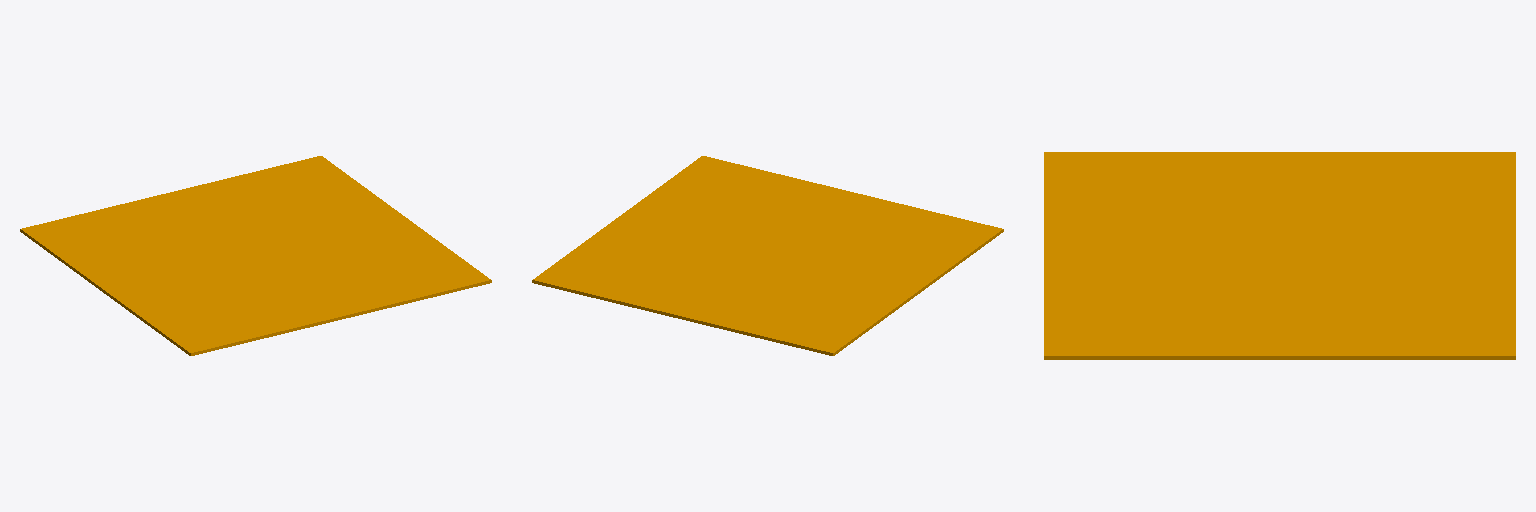
robot.urdf — basic_tray:
<robot
  name="basic_tray">
  <link name="basic_tray">
    <inertial>
      <origin xyz="0.0 0.0 0.0" rpy="0 0 0"/>
      <mass value="2.0"/>
      <inertia ixx="1" ixy="0.0" ixz="0.0" iyy="1" iyz="0.0" izz="1" />
    </inertial>

    <visual>
      <geometry>
        <mesh filename="../meshes/basic_tray.obj" scale="1 1 1" />
      </geometry>
     </visual>

    <collision>
      <geometry>
        <mesh filename="../meshes/basic_tray.obj" scale="1 1 1" />
      </geometry>
    </collision>

  </link>
</robot>

--- Render facts (derived) ---
The picture shows the robot from 3 angles, left to right: view 1: azimuth 30°, elevation 25°; view 2: azimuth 150°, elevation 25°; view 3: azimuth 270°, elevation 25°; orthographic projection.
Model basic_tray with 1 links and 0 joints (none), rooted at basic_tray, posed all joints at 0.
Visible links, largest first — view 1: basic_tray; view 2: basic_tray; view 3: basic_tray.
Link boxes in pixels (left/top/right/bottom): basic_tray: left=20, top=156, right=491, bottom=355; basic_tray: left=532, top=156, right=1003, bottom=355; basic_tray: left=1044, top=152, right=1515, bottom=359.
Bounding box of the posed robot: 0.3048 × 0.2984 × 0.003 m (x, y, z).
Meshes: 1 distinct files referenced, 1 mesh visuals loaded (1 OBJ).